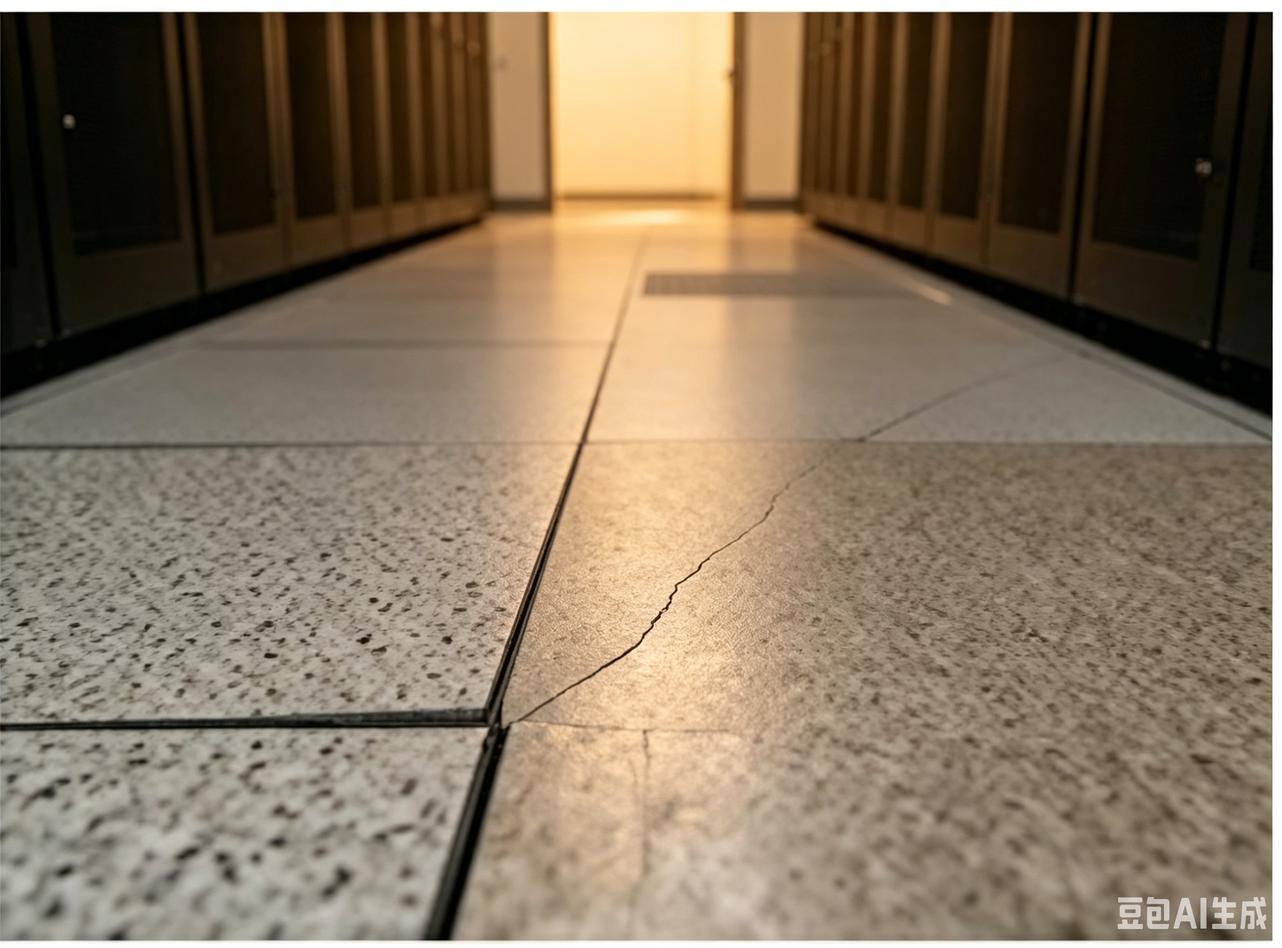floor_defect: (3, 702, 531, 742), (438, 730, 507, 910), (591, 622, 661, 671), (639, 572, 708, 617), (745, 479, 806, 526), (527, 670, 610, 704), (692, 529, 766, 567), (866, 398, 929, 438), (795, 440, 859, 476), (929, 380, 1000, 405)
